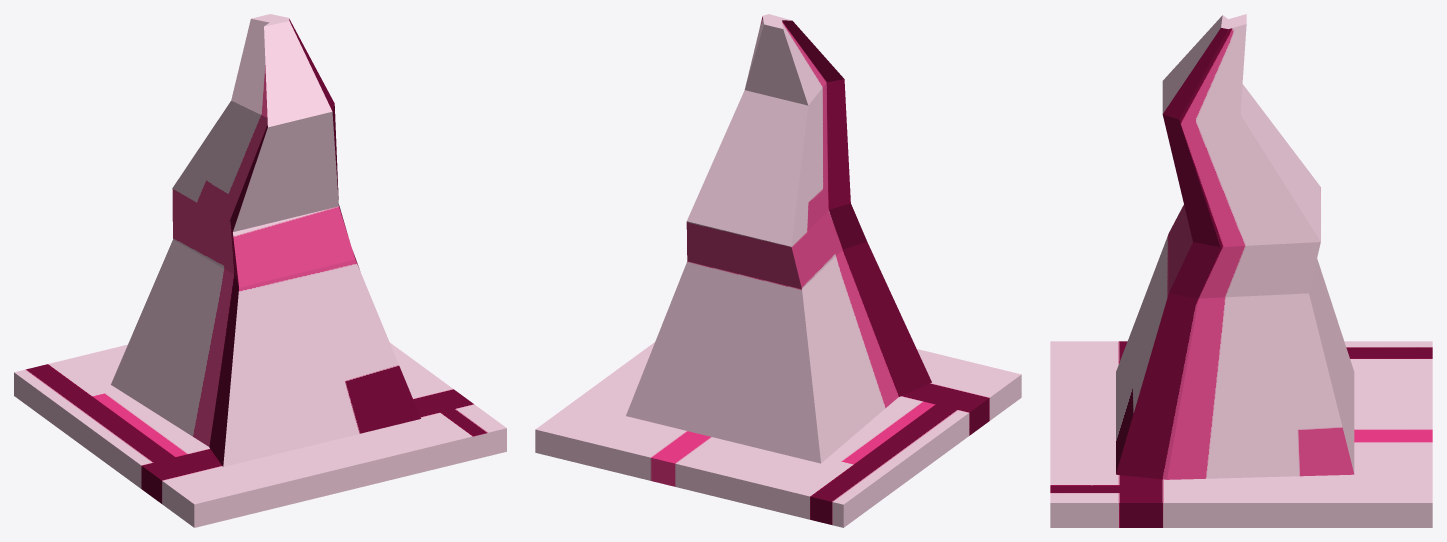
The model's file is Conepink.FBX.
3 views of the same model, side by side, from view 1: azimuth 30°, elevation 25°; view 2: azimuth 150°, elevation 25°; view 3: azimuth 270°, elevation 25° (orthographic). The views are drawn at different scales.
Visible parts, largest first — view 1: Cone001; view 2: Cone001; view 3: Cone001.
Part boxes in pixels (x1=…): Cone001: x1=14, y1=14, x2=506, y2=527; Cone001: x1=535, y1=14, x2=1021, y2=527; Cone001: x1=1050, y1=14, x2=1432, y2=527.
Bounding box in the file's own units: 20 × 24.77 × 20.
Materials: 2 (2 with a texture image).
